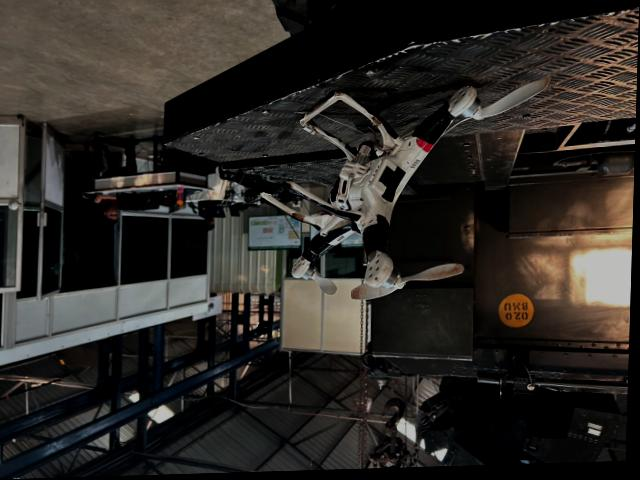drone: (239, 78, 473, 315)
